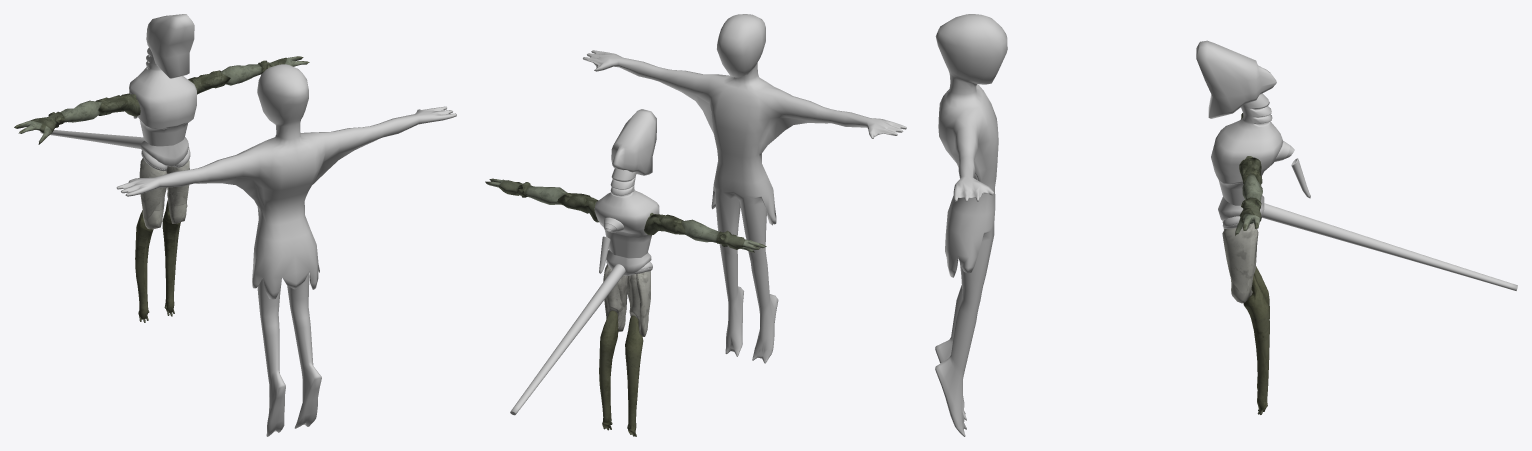
File: MainActCharacters1-14.fbx
3 views of the same model, side by side, from view 1: azimuth 30°, elevation 25°; view 2: azimuth 150°, elevation 25°; view 3: azimuth 270°, elevation 25° (orthographic). The views are drawn at different scales.
Visible parts, largest first — view 1: Teacher.001, PelvisConnection, Legs, Arm; view 2: Teacher.001, PelvisConnection, Legs, Arm; view 3: Teacher.001, PelvisConnection, Legs, Arm.
Part boxes in pixels (x1=…): Teacher.001: x1=116, y1=64, x2=456, y2=436; PelvisConnection: x1=40, y1=14, x2=196, y2=171; Legs: x1=135, y1=158, x2=189, y2=322; Arm: x1=14, y1=56, x2=309, y2=144; Teacher.001: x1=583, y1=14, x2=906, y2=363; PelvisConnection: x1=510, y1=109, x2=659, y2=415; Legs: x1=599, y1=264, x2=650, y2=436; Arm: x1=485, y1=178, x2=766, y2=252; Teacher.001: x1=935, y1=14, x2=1007, y2=436; PelvisConnection: x1=1196, y1=40, x2=1517, y2=290; Legs: x1=1222, y1=221, x2=1269, y2=414; Arm: x1=1235, y1=113, x2=1262, y2=235.
Bounding box in the file's own units: 1426 × 1484 × 1918.
